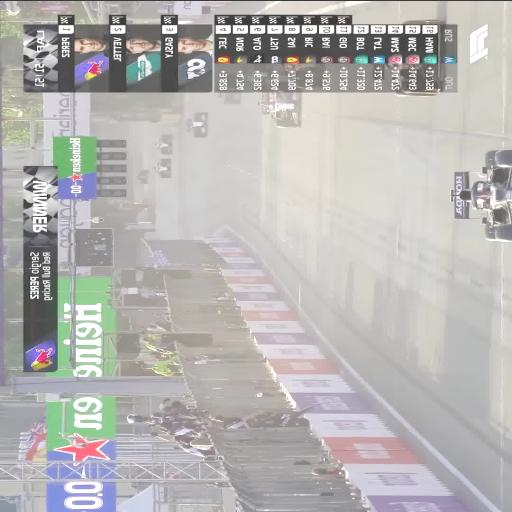f1_car: (449, 149, 511, 241), (374, 41, 440, 96), (258, 91, 301, 127), (185, 111, 208, 137), (154, 157, 172, 177), (155, 134, 172, 154), (217, 91, 240, 103), (403, 18, 444, 24), (137, 169, 148, 183), (432, 47, 440, 55), (396, 34, 398, 36), (438, 38, 439, 41)
